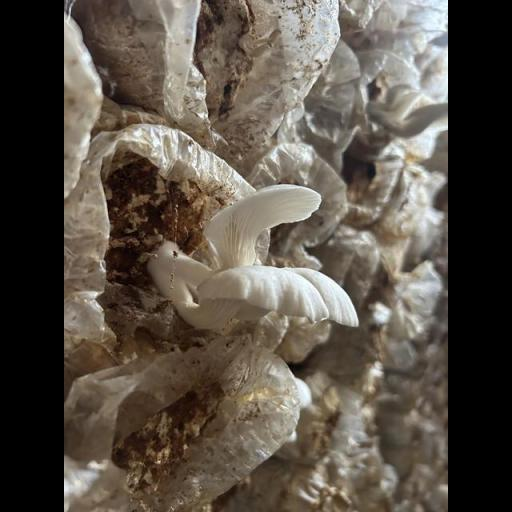White Oyster Mushroom: (154, 166, 378, 358)
